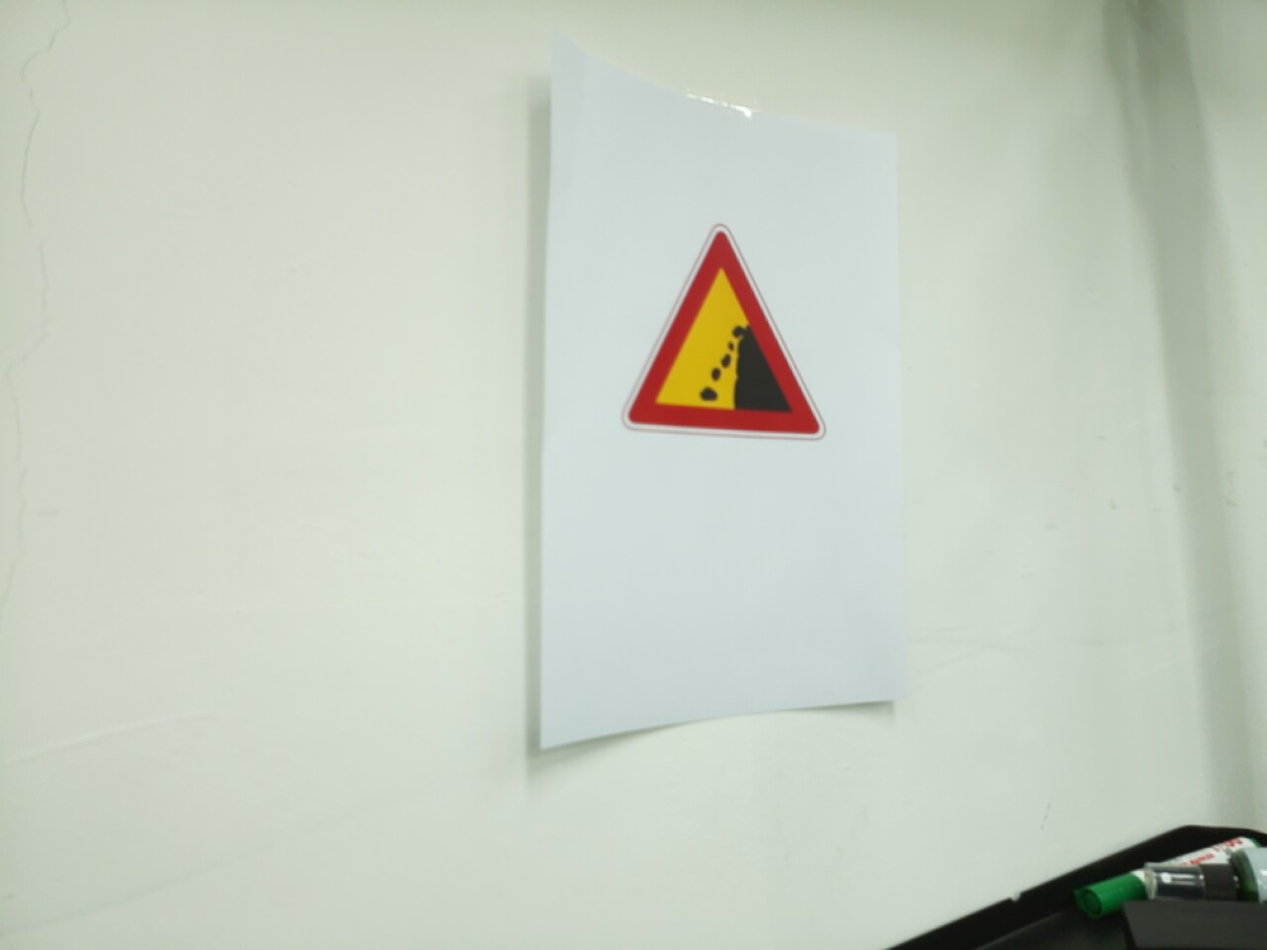falling_rocks: (621, 224, 828, 442)
